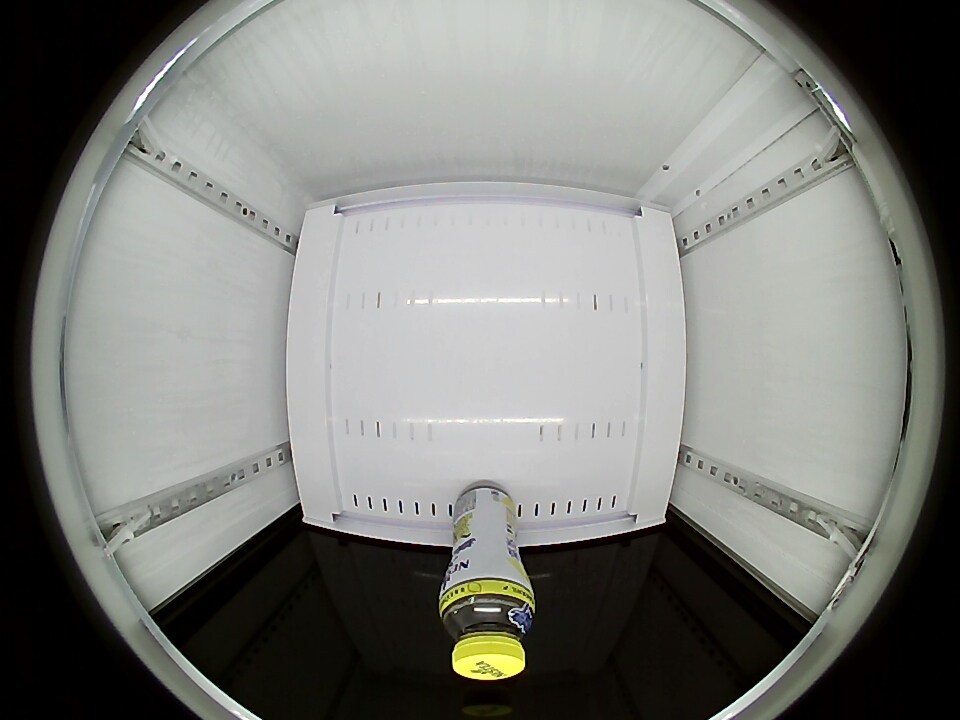chacui: (439, 574, 537, 680)
